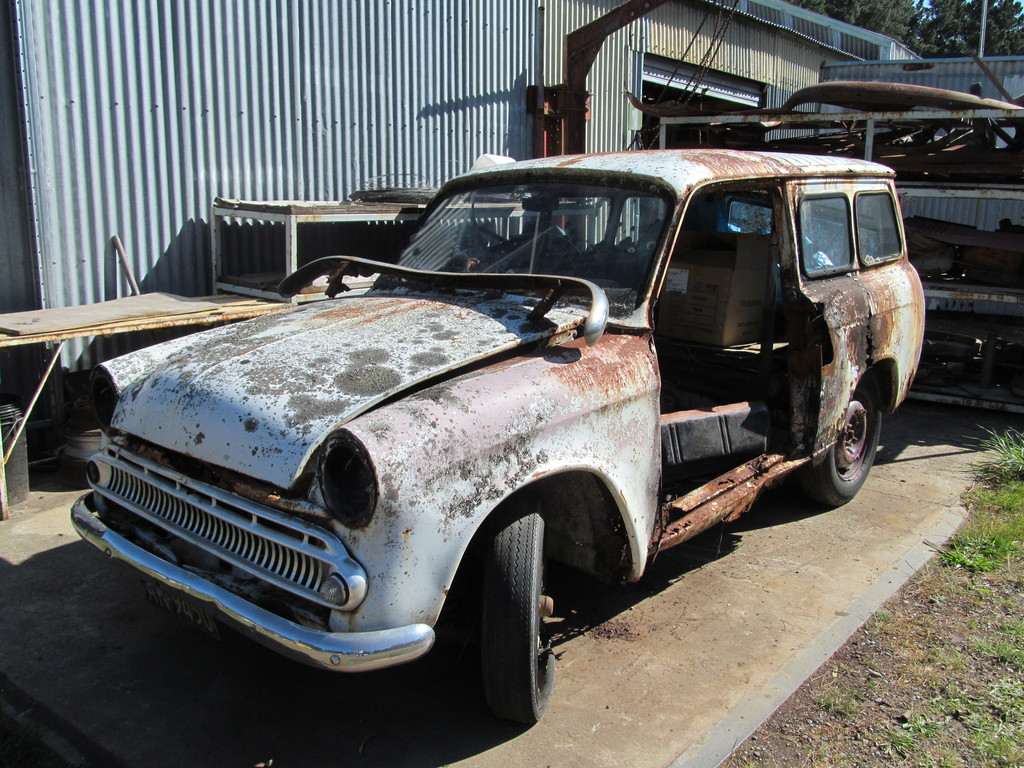Car: (87, 138, 887, 721)
